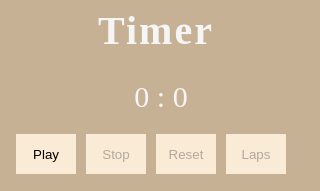
Test: Stopwatch › it should check the lap button and play button is disabled after pressing the stop button
Click the button with test id "play": x=46, y=154 left=16, top=134, right=76, bottom=174
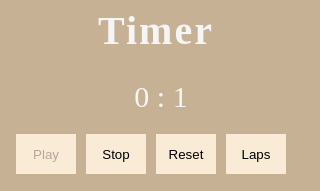
Click the button "Stop": x=116, y=154 left=86, top=134, right=146, bottom=174
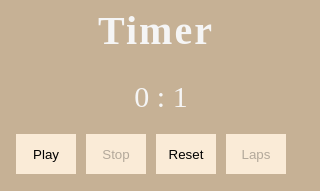
Check: the button "Laps" is disabled, box left=226, top=134, right=286, bottom=174
